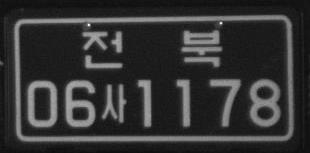0: (26, 79, 58, 129)
1: (170, 77, 196, 127), (133, 78, 157, 128)
6: (64, 78, 96, 129)
7: (209, 77, 242, 128)
8: (249, 77, 281, 128)
사: (101, 82, 127, 123)
전북_D: (81, 29, 223, 69)
